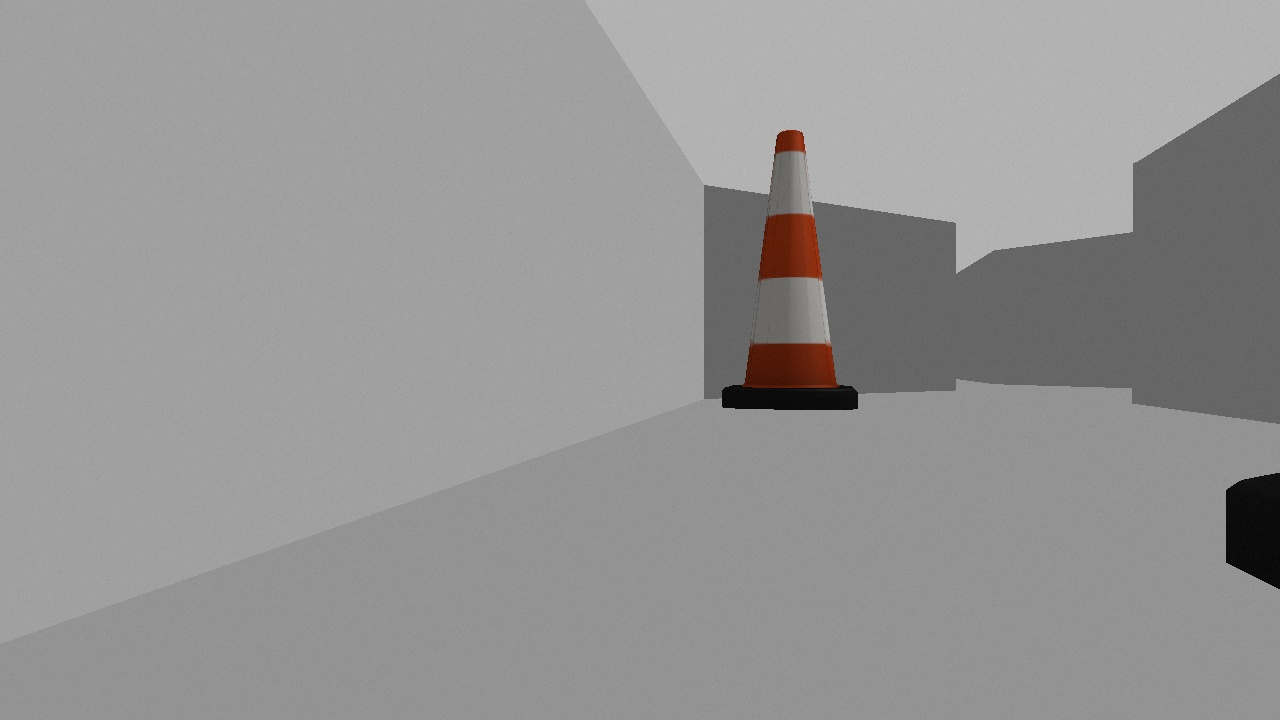barricade: (721, 129, 858, 408)
